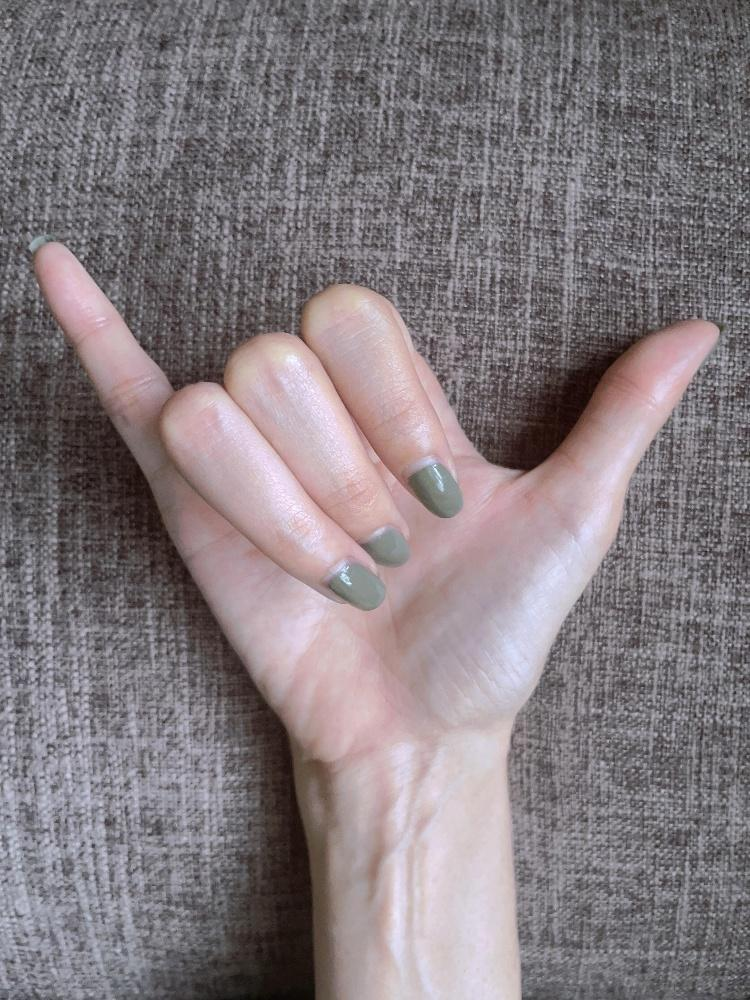y: (18, 231, 722, 736)
